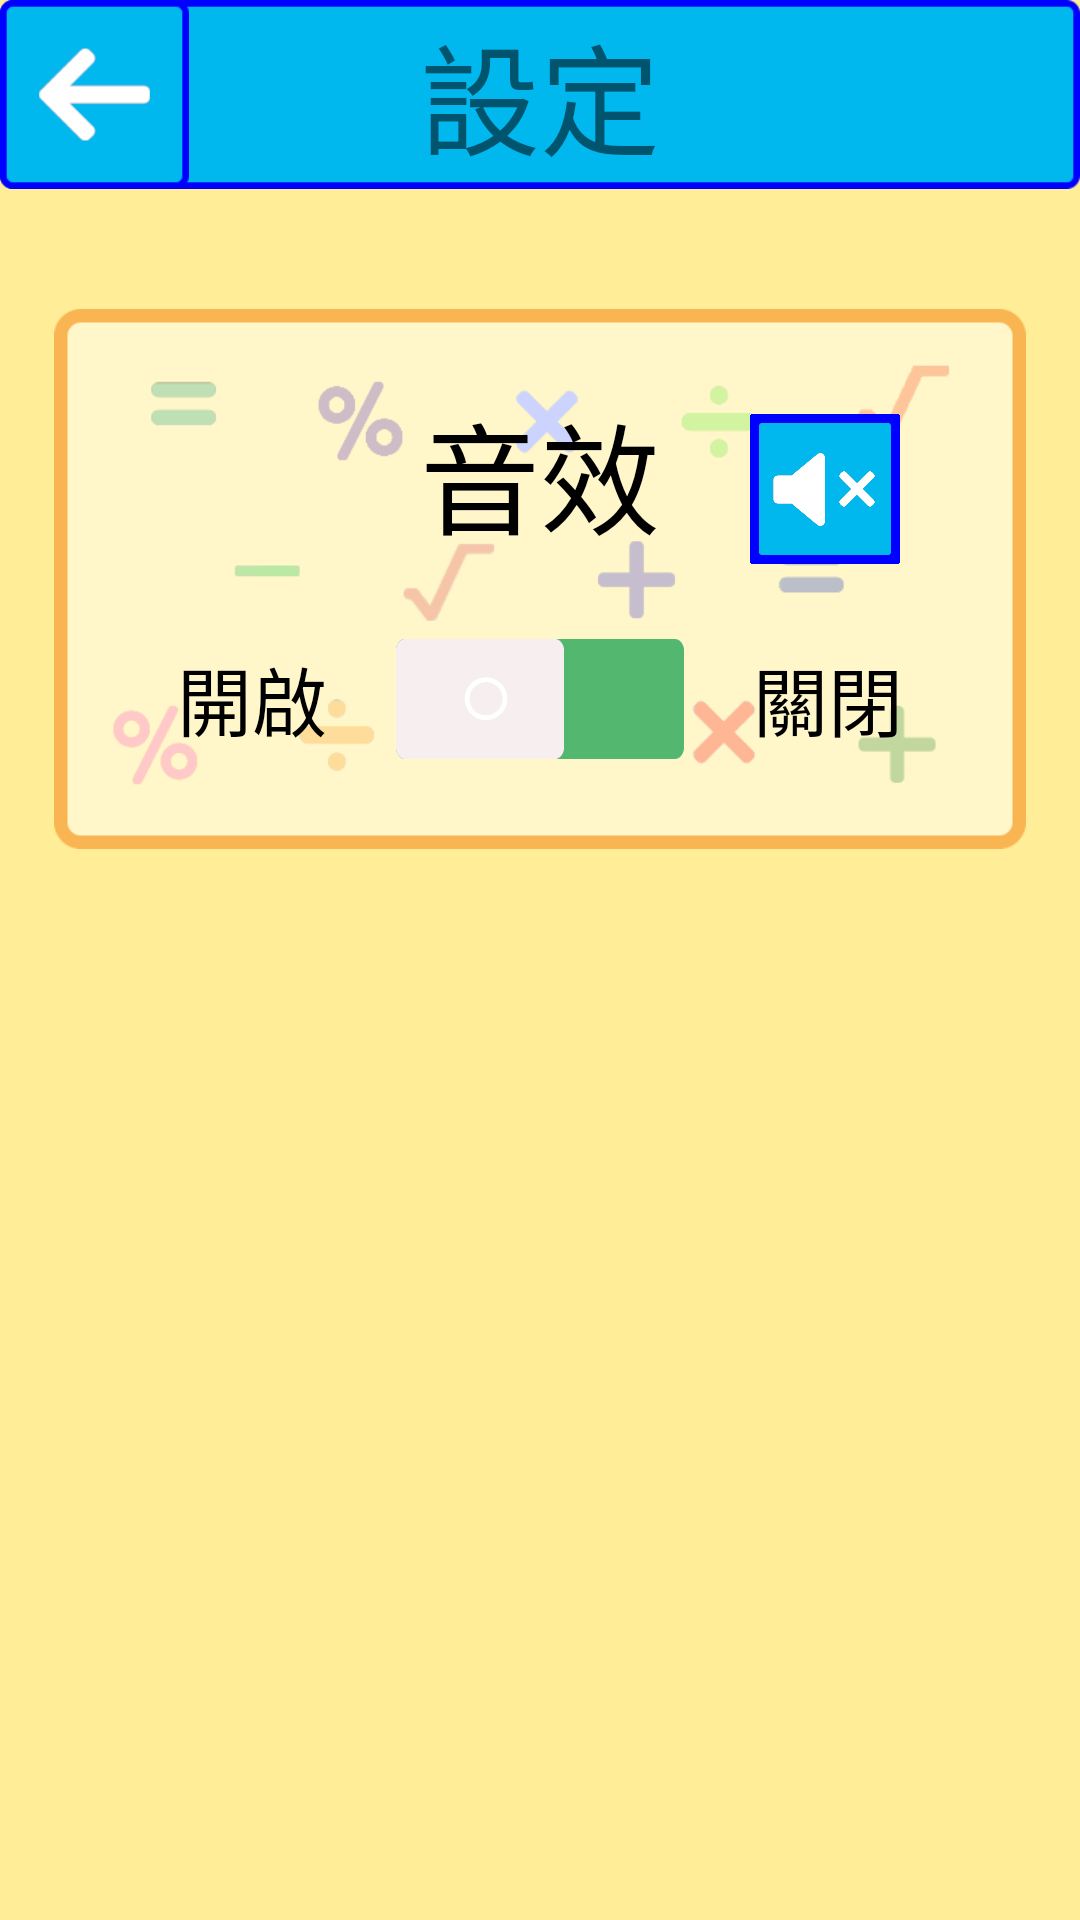

Point at icon controls on the screen. Image size 1080x1920, points as [x,y].
backto: [94,94]
